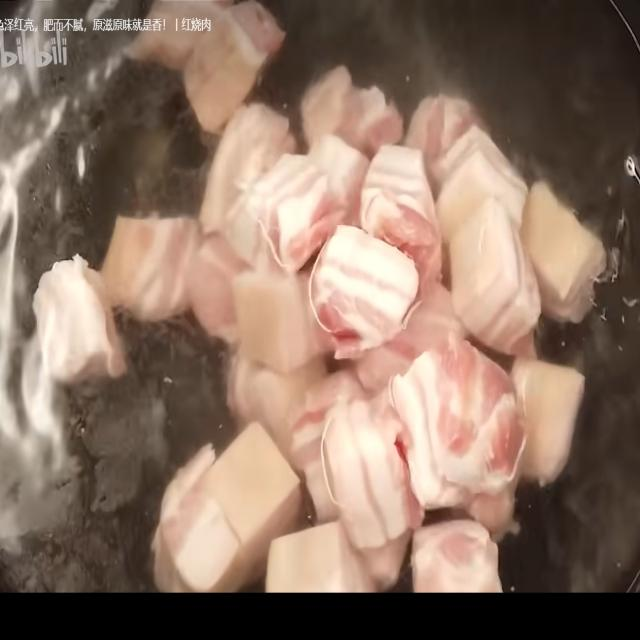pork: (137, 414, 291, 588), (376, 361, 532, 500), (188, 100, 324, 249), (305, 227, 414, 353)
